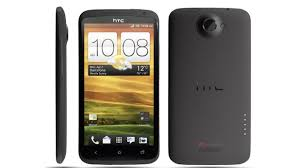htc: (165, 4, 253, 165), (75, 7, 161, 165)
